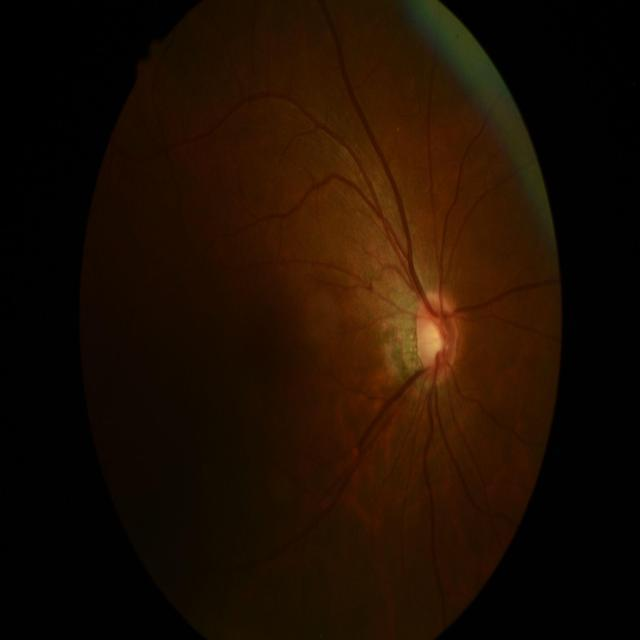cup: (418, 315, 448, 367)
disk: (414, 289, 457, 383)
